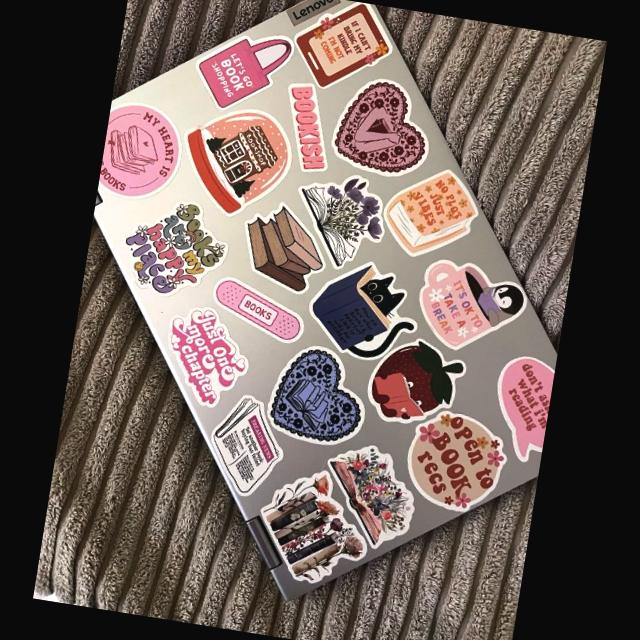laptop: (46, 0, 591, 614)
